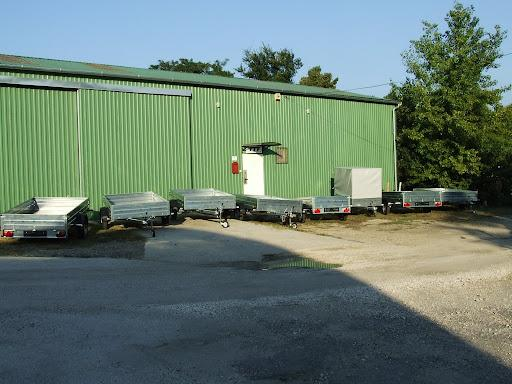trailer: (0, 196, 90, 239), (333, 167, 382, 207), (374, 190, 442, 208), (294, 196, 351, 215)
